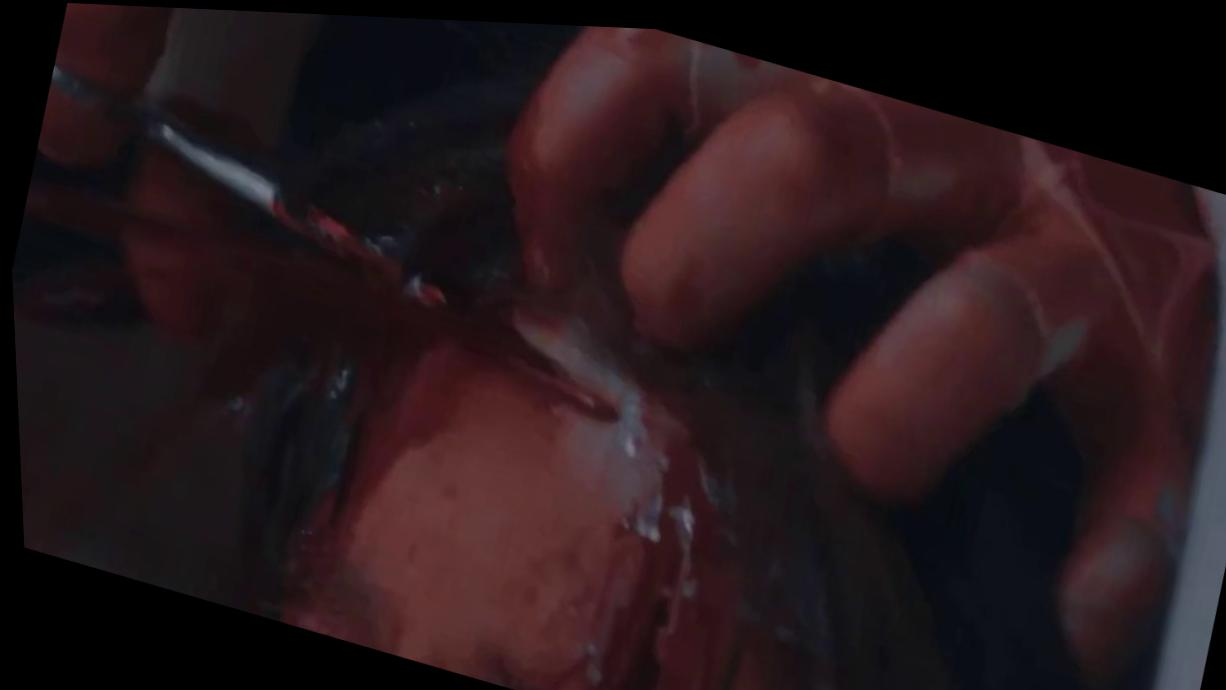Fire: (24, 2, 1226, 690)
